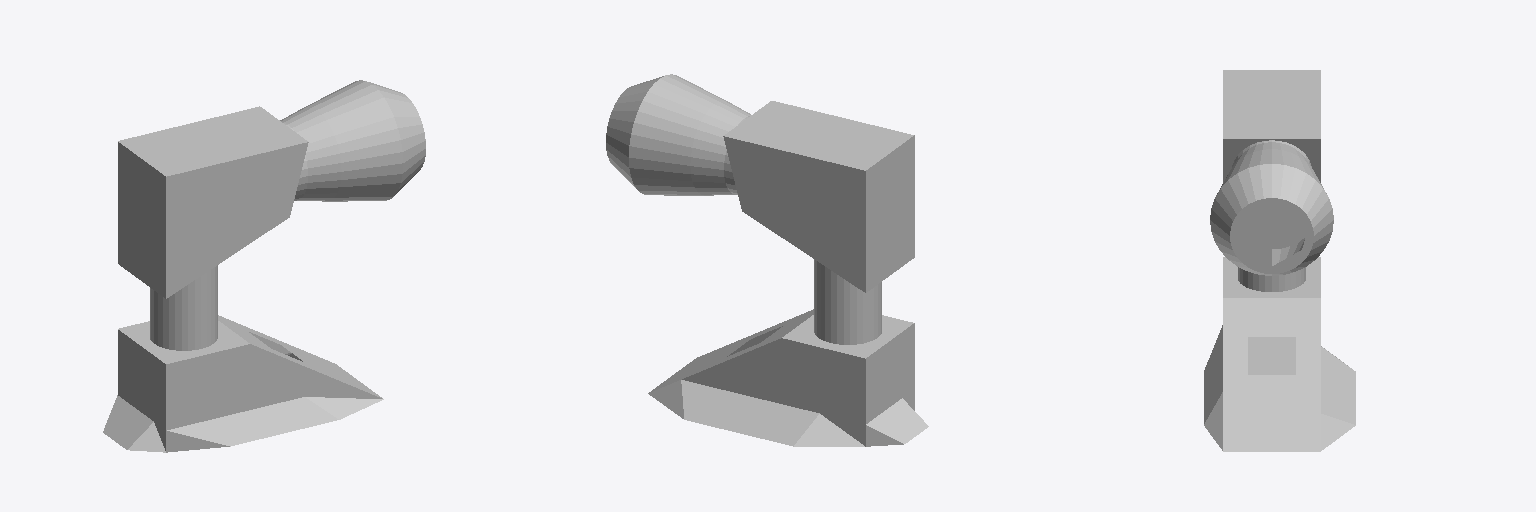
Rendered from Turret_Variation.obj.
The picture shows the model from 3 angles: view 1: azimuth 30°, elevation 25°; view 2: azimuth 150°, elevation 25°; view 3: azimuth 270°, elevation 25°; orthographic projection.
Parts seen in each view (by area): view 1: Head_Cube, Body_Cube.001, Barrel_Cylinder, Turning_Mechanism_Cylinder.002; view 2: Head_Cube, Body_Cube.001, Barrel_Cylinder, Turning_Mechanism_Cylinder.002; view 3: Body_Cube.001, Barrel_Cylinder, Head_Cube, Turning_Mechanism_Cylinder.002.
Part boxes in pixels (left/top/right/bottom): Head_Cube: left=118, top=106, right=308, bottom=298; Body_Cube.001: left=103, top=315, right=383, bottom=452; Barrel_Cylinder: left=280, top=80, right=425, bottom=201; Turning_Mechanism_Cylinder.002: left=150, top=265, right=217, bottom=350; Head_Cube: left=723, top=101, right=914, bottom=292; Body_Cube.001: left=648, top=309, right=928, bottom=446; Barrel_Cylinder: left=606, top=74, right=750, bottom=195; Turning_Mechanism_Cylinder.002: left=814, top=259, right=881, bottom=344; Body_Cube.001: left=1204, top=257, right=1355, bottom=451; Barrel_Cylinder: left=1210, top=140, right=1333, bottom=275; Head_Cube: left=1223, top=70, right=1320, bottom=182; Turning_Mechanism_Cylinder.002: left=1238, top=267, right=1305, bottom=291.
Bounding box in the file's own units: 6.89 × 6.67 × 3.14.